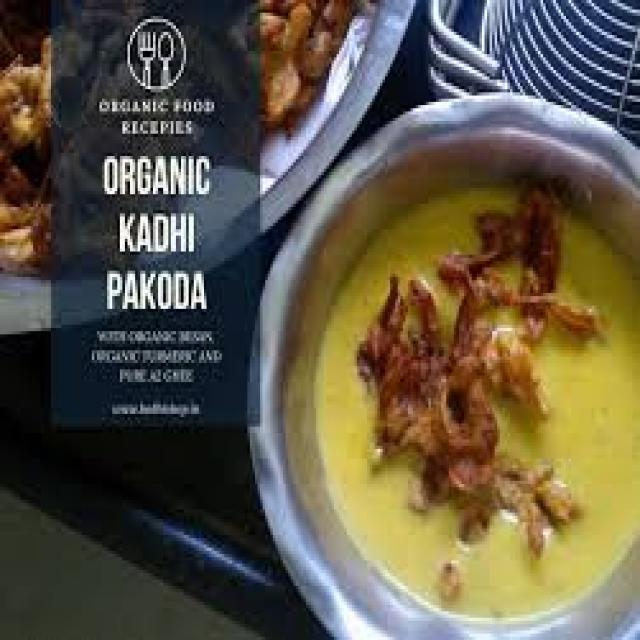Kadhi Pakora: (309, 186, 640, 615)
